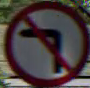Don't turn left: (9, 15, 75, 74)
